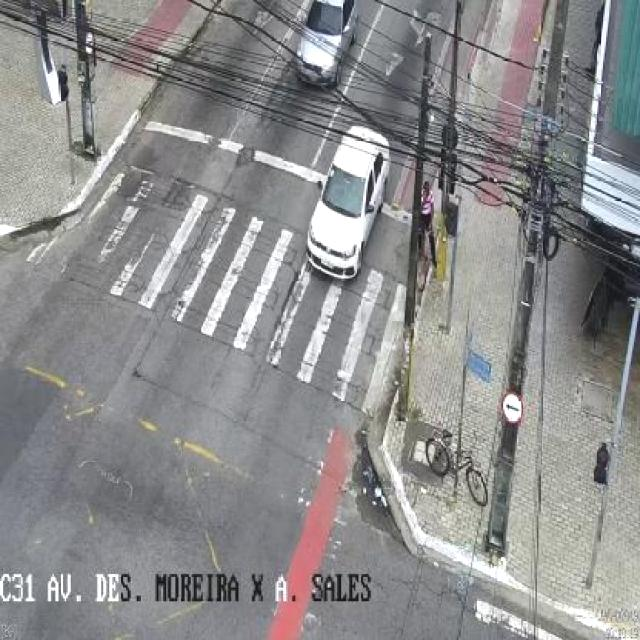Car: (304, 124, 390, 282), (296, 0, 359, 85)
Cycle: (424, 428, 490, 508)
